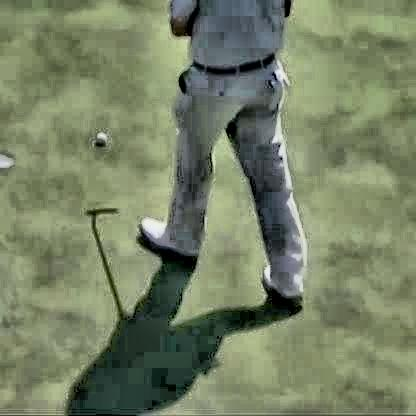golfball: (92, 133, 105, 143)
